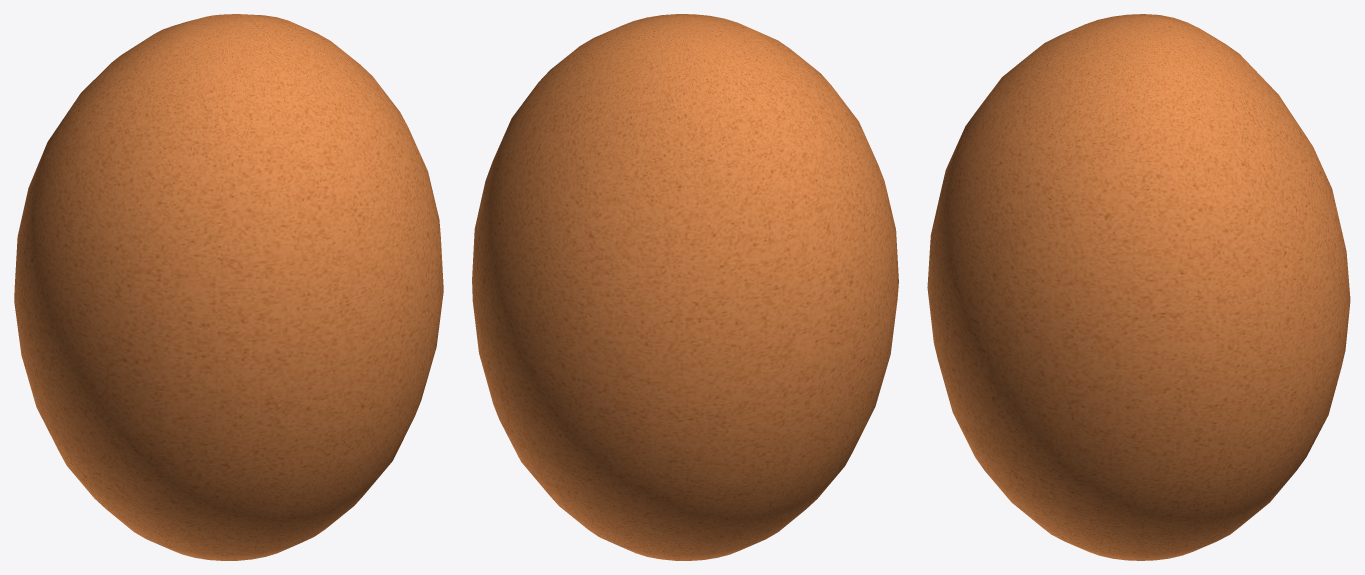
The model's file is egg.glb.
3 views of the same model, side by side, from view 1: azimuth 30°, elevation 25°; view 2: azimuth 150°, elevation 25°; view 3: azimuth 270°, elevation 25° (orthographic).
Visible parts, largest first — view 1: Sphere; view 2: Sphere; view 3: Sphere.
Part boxes in pixels (<box>): Sphere: <box>14,14,443,560</box>; Sphere: <box>472,14,898,560</box>; Sphere: <box>927,14,1350,560</box>.
Bounding box in the file's own units: 1.52 × 2 × 1.49.
Materials: 1 (1 with a texture image).
